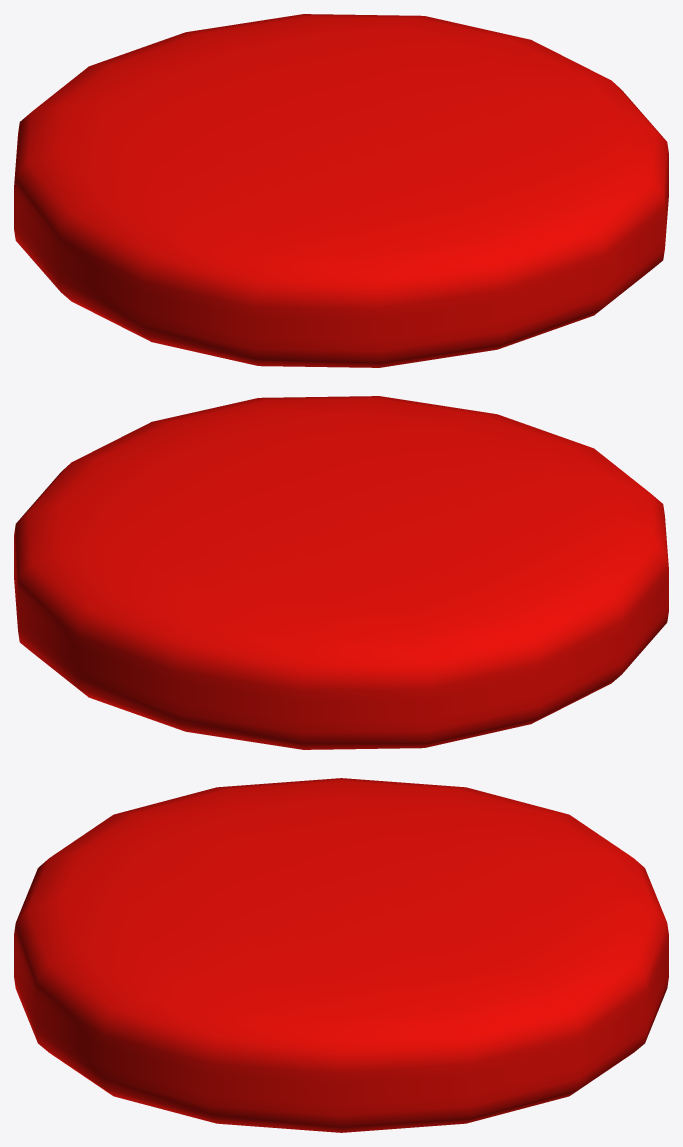
The model's file is Meat.fbx.
3 views of the same model, one above another, from view 1: azimuth 30°, elevation 25°; view 2: azimuth 150°, elevation 25°; view 3: azimuth 270°, elevation 25° (orthographic).
Parts seen in each view (by area): view 1: Cube.031; view 2: Cube.031; view 3: Cube.031.
Part boxes in pixels (x1,y1,x2,y2): Cube.031: [14, 14, 668, 367]; Cube.031: [14, 396, 668, 749]; Cube.031: [14, 778, 668, 1132].
Size of the model in its own units: 41.05 by 9.66 by 41.05.
